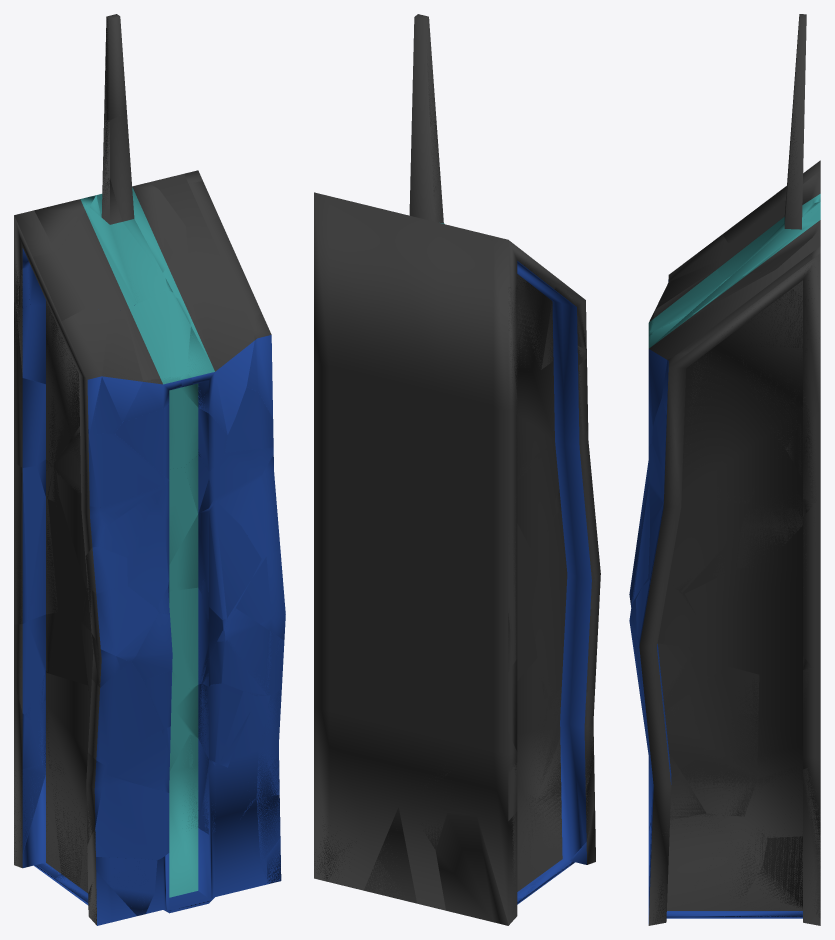
The model's file is Litoria.fbx.
3 renders of one model, left to right at view 1: azimuth 30°, elevation 25°; view 2: azimuth 150°, elevation 25°; view 3: azimuth 270°, elevation 25°, orthographic. The views are drawn at different scales.
Parts seen in each view (by area): view 1: Litoria building MAIN, Litoria building_cell.010, Litoria building_cell.077, Litoria building_cell.012, Litoria building_cell.001, Litoria building_cell.060, Litoria building_cell.025, Litoria building_cell.066, Litoria building_cell, Litoria building_cell.028, Litoria building_cell.050, Litoria building_cell.032 (+41 smaller); view 2: Litoria building MAIN, Litoria building_cell.074, Litoria building_cell.076, Litoria building_cell.081, Litoria building_cell.066, Litoria building_cell.039, Litoria building_cell.068, Litoria building_cell.094, Litoria building_cell.079, Litoria building_cell.025, Litoria building_cell.038, Litoria building_cell.086; view 3: Litoria building MAIN, Litoria building_cell.041, Litoria building_cell.048, Litoria building_cell.007, Litoria building_cell.010, Litoria building_cell.044, Litoria building_cell.012, Litoria building_cell.045, Litoria building_cell, Litoria building_cell.070, Litoria building_cell.027, Litoria building_cell.039 (+11 smaller).
Boxes of the visible parts, <box> form: Litoria building MAIN: <box>14,14,284,925</box>; Litoria building_cell.010: <box>57,178,167,310</box>; Litoria building_cell.077: <box>115,388,227,479</box>; Litoria building_cell.012: <box>96,112,185,278</box>; Litoria building_cell.001: <box>94,774,169,860</box>; Litoria building_cell.060: <box>127,467,197,607</box>; Litoria building_cell.025: <box>53,430,169,507</box>; Litoria building_cell.066: <box>14,612,87,714</box>; Litoria building_cell: <box>124,290,192,391</box>; Litoria building_cell.028: <box>81,621,162,765</box>; Litoria building_cell.050: <box>16,304,79,463</box>; Litoria building_cell.032: <box>91,310,142,434</box>; Litoria building MAIN: <box>314,14,600,925</box>; Litoria building_cell.074: <box>345,477,412,646</box>; Litoria building_cell.076: <box>435,813,521,925</box>; Litoria building_cell.081: <box>364,807,416,903</box>; Litoria building_cell.066: <box>508,603,537,751</box>; Litoria building_cell.039: <box>520,282,586,366</box>; Litoria building_cell.068: <box>517,523,535,614</box>; Litoria building_cell.094: <box>534,689,561,784</box>; Litoria building_cell.079: <box>508,502,516,662</box>; Litoria building_cell.025: <box>517,358,588,480</box>; Litoria building_cell.038: <box>532,792,588,886</box>; Litoria building_cell.086: <box>570,807,595,865</box>; Litoria building MAIN: <box>630,14,820,925</box>; Litoria building_cell.041: <box>665,666,759,816</box>; Litoria building_cell.048: <box>737,481,812,567</box>; Litoria building_cell.007: <box>762,836,820,918</box>; Litoria building_cell.010: <box>717,178,820,281</box>; Litoria building_cell.044: <box>687,269,819,360</box>; Litoria building_cell.012: <box>732,114,820,276</box>; Litoria building_cell.045: <box>629,600,725,717</box>; Litoria building_cell: <box>651,268,722,331</box>; Litoria building_cell.070: <box>786,401,820,503</box>; Litoria building_cell.027: <box>648,443,754,529</box>; Litoria building_cell.039: <box>668,234,728,281</box>.
Bounding box in the file's own units: 1420 × 6174 × 1233.
